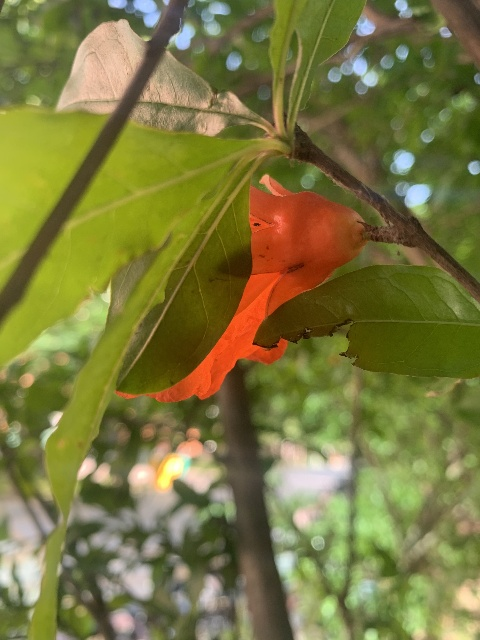flower: (117, 176, 371, 402)
